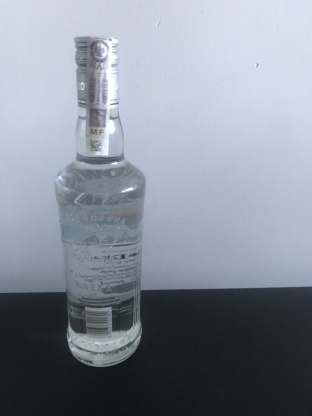nakretka: (71, 32, 121, 110)
